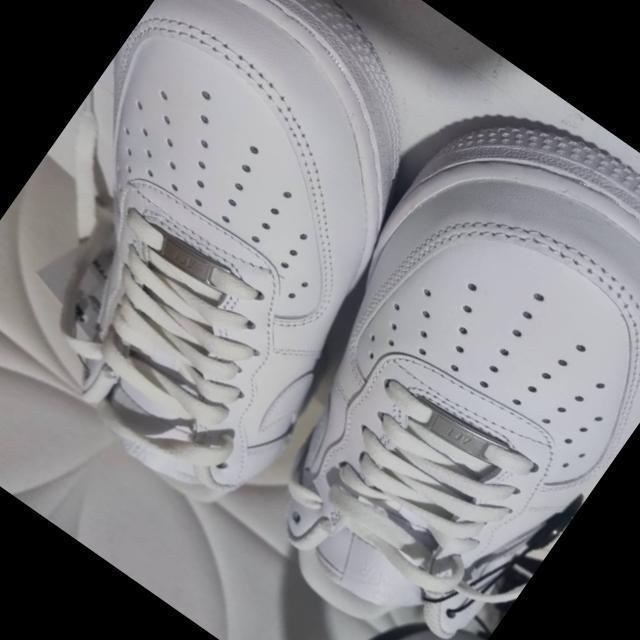nike original air force: (0, 0, 519, 531), (171, 64, 640, 640)
